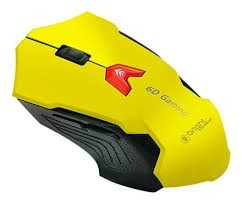mouse: (10, 8, 234, 194)
